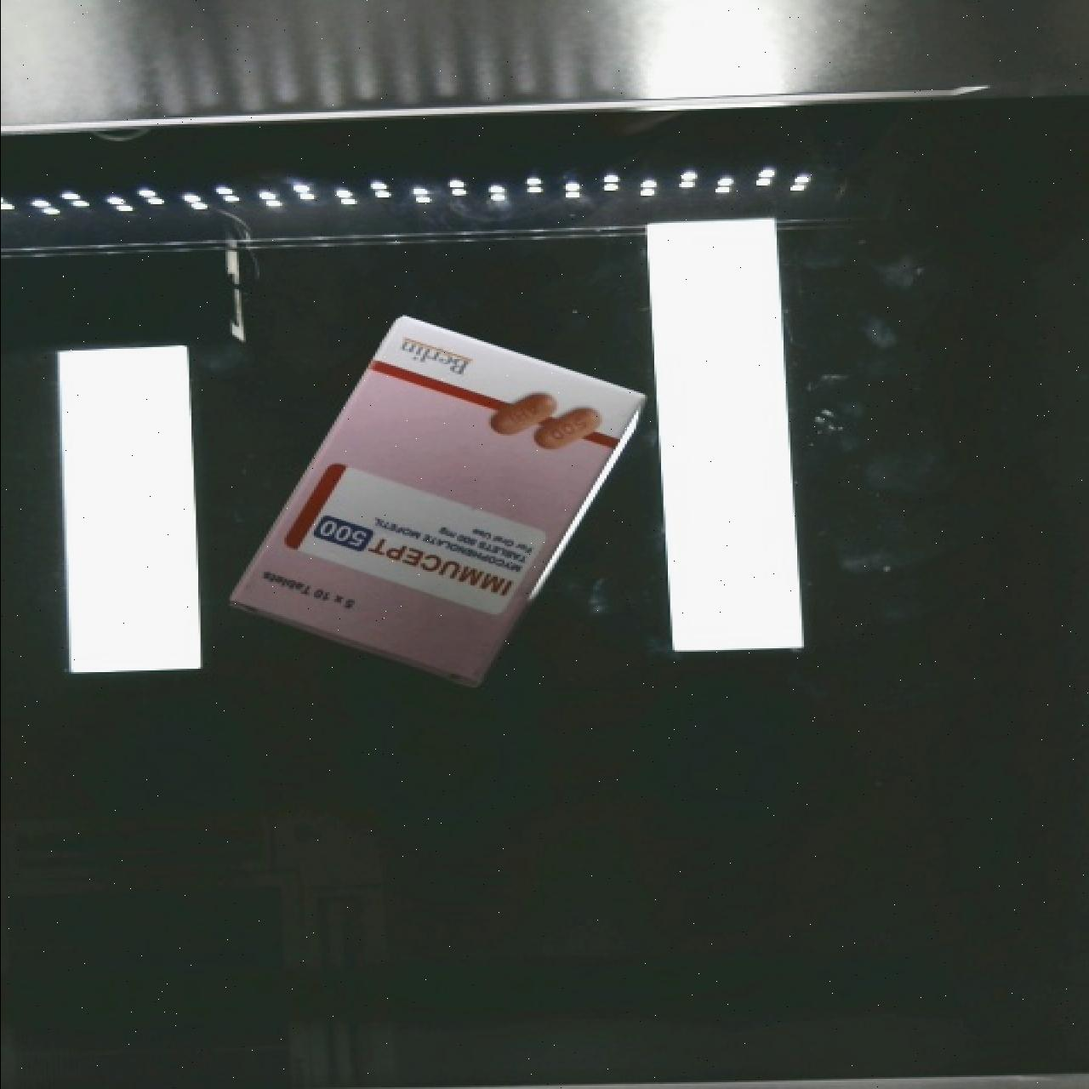medicine_label_obb: (286, 492, 531, 623)
